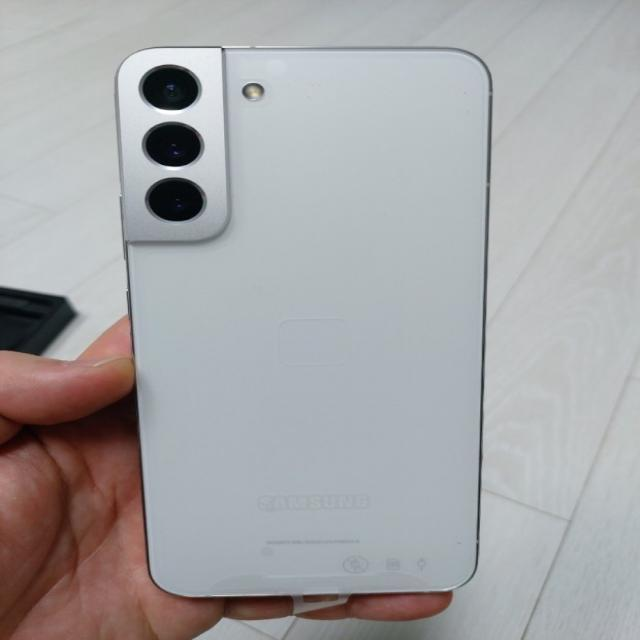phone: (113, 41, 484, 596)
